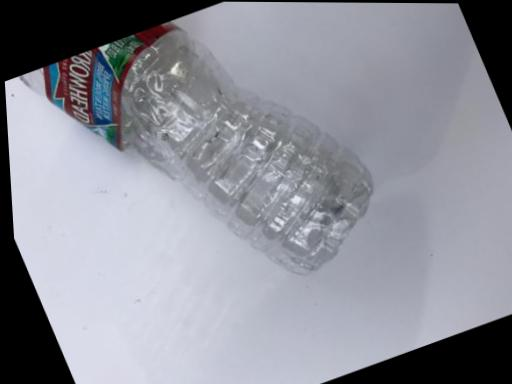plastic: (11, 0, 410, 345)
